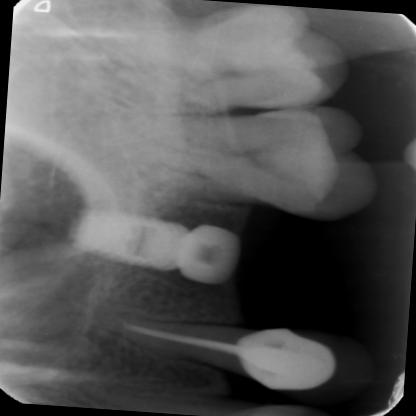Bicon: (66, 205, 235, 288)
